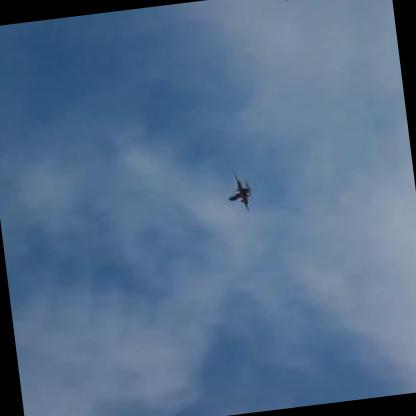plane: (224, 169, 255, 215)
